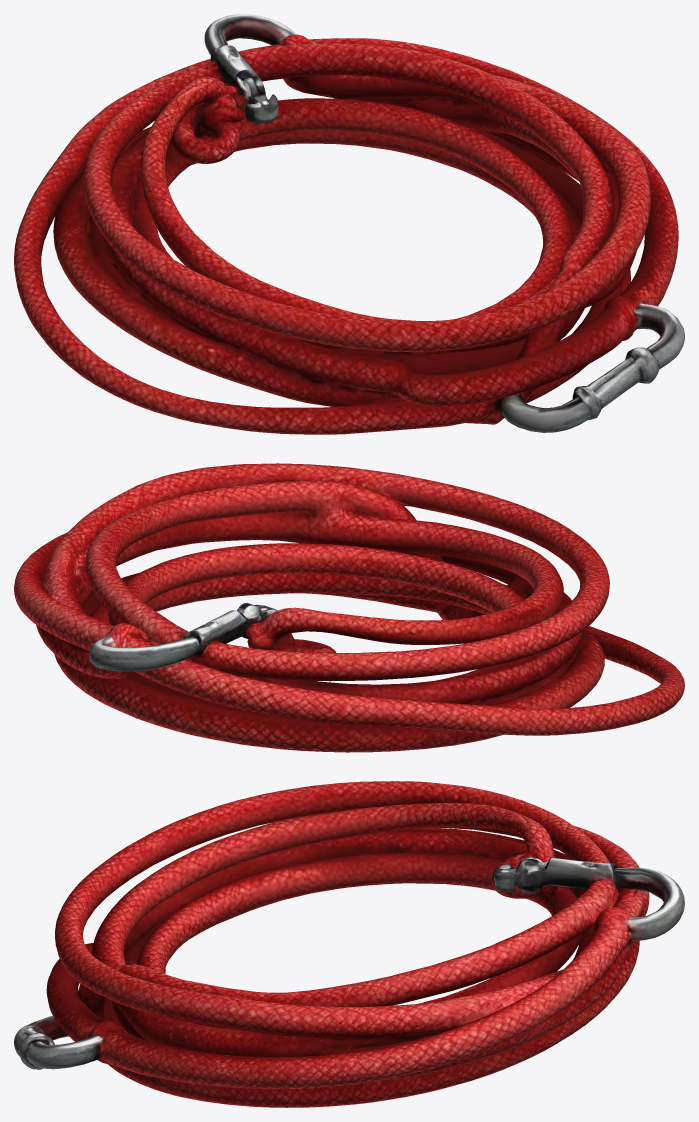
Rendered from climbing-rope.glb.
3 renders of one model, top to bottom at view 1: azimuth 30°, elevation 25°; view 2: azimuth 150°, elevation 25°; view 3: azimuth 270°, elevation 25°, orthographic. The views are drawn at different scales.
Visible parts, largest first — view 1: node_cd91b754-85d6-409e-ba98-acd3ec5c1e00; view 2: node_cd91b754-85d6-409e-ba98-acd3ec5c1e00; view 3: node_cd91b754-85d6-409e-ba98-acd3ec5c1e00.
Boxes of the visible parts, left/top/right/bottom form: node_cd91b754-85d6-409e-ba98-acd3ec5c1e00: left=14, top=14, right=684, bottom=434; node_cd91b754-85d6-409e-ba98-acd3ec5c1e00: left=14, top=463, right=684, bottom=752; node_cd91b754-85d6-409e-ba98-acd3ec5c1e00: left=14, top=781, right=684, bottom=1107.
Size of the model in its own units: 0.9795 by 0.3018 by 0.9709.
1 material, 1 textured.
